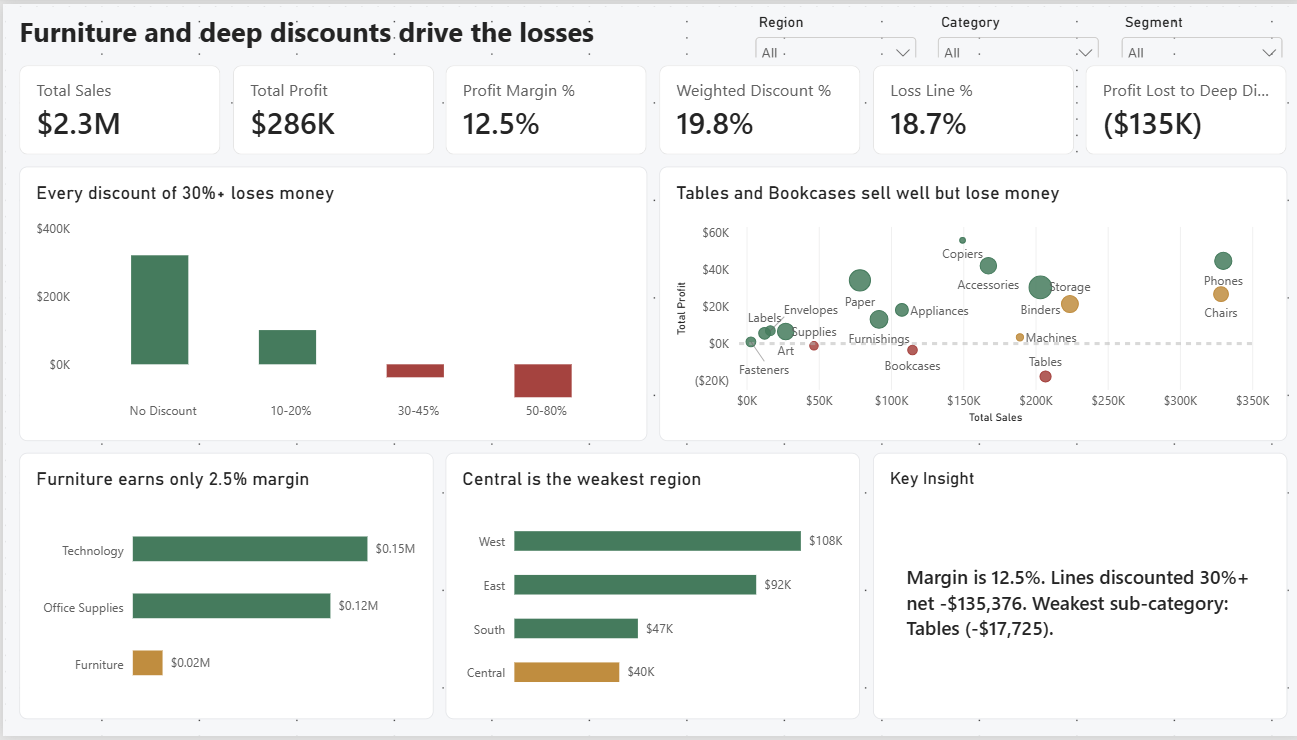

The page's visual inventory and layout, read from the dashboard file:
{"tool":"powerbi","page":{"name":"Overview","canvas":[1280,720],"ordinal":0},"visuals":[{"type":"textbox","box":[16,8,700,44],"z":0},{"type":"slicer","fields":{"Values":["Superstore.Category"]},"box":[916,8,168,44],"z":1000},{"type":"slicer","fields":{"Values":["Superstore.Region"]},"box":[736,8,168,44],"z":2000},{"type":"slicer","fields":{"Values":["Superstore.Segment"]},"box":[1096,8,168,44],"z":3000},{"type":"cardVisual","fields":{"Data":["_Measures.Total Sales"]},"box":[16,60,198,88],"z":4000},{"type":"cardVisual","fields":{"Data":["_Measures.Total Profit"]},"box":[226,60,198,88],"z":5000},{"type":"cardVisual","fields":{"Data":["_Measures.Profit Margin %"]},"box":[436,60,198,88],"z":6000},{"type":"cardVisual","fields":{"Data":["_Measures.Weighted Discount %"]},"box":[646,60,198,88],"z":7000},{"type":"cardVisual","fields":{"Data":["_Measures.Loss Line %"]},"box":[856,60,198,88],"z":8000},{"type":"cardVisual","fields":{"Data":["_Measures.Profit Lost to Deep Discounts"]},"box":[1066,60,198,88],"z":9000},{"type":"clusteredColumnChart","title":"Every discount of 30%+ loses money","fields":{"Category":["Superstore.Discount Band"],"Y":["_Measures.Total Profit"]},"box":[16,160,618,270],"z":10000},{"type":"scatterChart","title":"Tables and Bookcases sell well but lose money","fields":{"Category":["Superstore.Sub-Category"],"Size":["_Measures.Total Quantity"],"X":["_Measures.Total Sales"],"Y":["_Measures.Total Profit"]},"box":[646,160,618,270],"z":11000},{"type":"clusteredBarChart","title":"Furniture earns only 2.5% margin","fields":{"Category":["Superstore.Category"],"Y":["_Measures.Total Profit"]},"box":[16,442,408,262],"z":12000},{"type":"clusteredBarChart","title":"Central is the weakest region","fields":{"Category":["Superstore.Region Hierarchy.Region","Superstore.Region Hierarchy.State","Superstore.Region Hierarchy.City"],"Y":["_Measures.Total Profit"]},"box":[436,442,408,262],"z":13000},{"type":"cardVisual","title":"Key Insight","fields":{"Data":["_Measures.Headline Insight"]},"box":[856,442,408,262],"z":14000}]}

Visuals, with their boxes in screenshot pixels (x1, y1, x2, y2), scaled from the page's 1280x720 canvas onto the 1297x740 screenshot:
textbox: bbox(16, 8, 726, 53)
slicer - Superstore.Category: bbox(928, 8, 1098, 53)
slicer - Superstore.Region: bbox(746, 8, 916, 53)
slicer - Superstore.Segment: bbox(1111, 8, 1281, 53)
cardVisual - _Measures.Total Sales: bbox(16, 62, 217, 152)
cardVisual - _Measures.Total Profit: bbox(229, 62, 430, 152)
cardVisual - _Measures.Profit Margin %: bbox(442, 62, 642, 152)
cardVisual - _Measures.Weighted Discount %: bbox(655, 62, 855, 152)
cardVisual - _Measures.Loss Line %: bbox(867, 62, 1068, 152)
cardVisual - _Measures.Profit Lost to Deep Discounts: bbox(1080, 62, 1281, 152)
"Every discount of 30%+ loses money" clusteredColumnChart: bbox(16, 164, 642, 442)
"Tables and Bookcases sell well but lose money" scatterChart: bbox(655, 164, 1281, 442)
"Furniture earns only 2.5% margin" clusteredBarChart: bbox(16, 454, 430, 724)
"Central is the weakest region" clusteredBarChart: bbox(442, 454, 855, 724)
"Key Insight" cardVisual: bbox(867, 454, 1281, 724)
